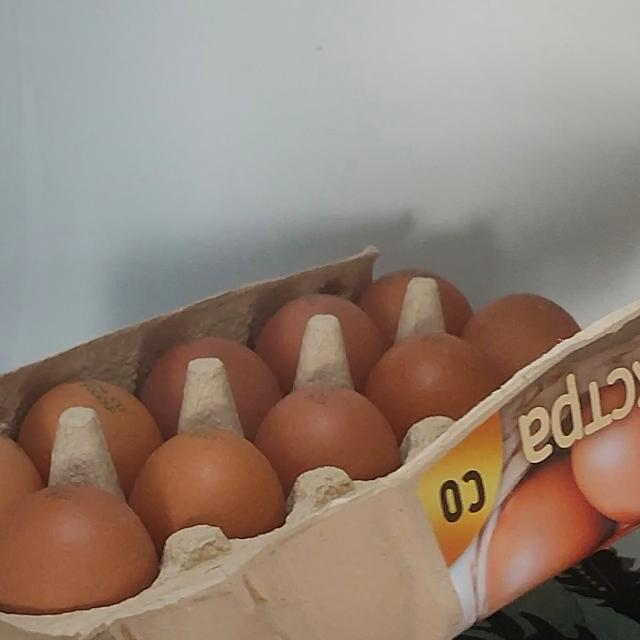egg: (0, 206, 640, 640)
